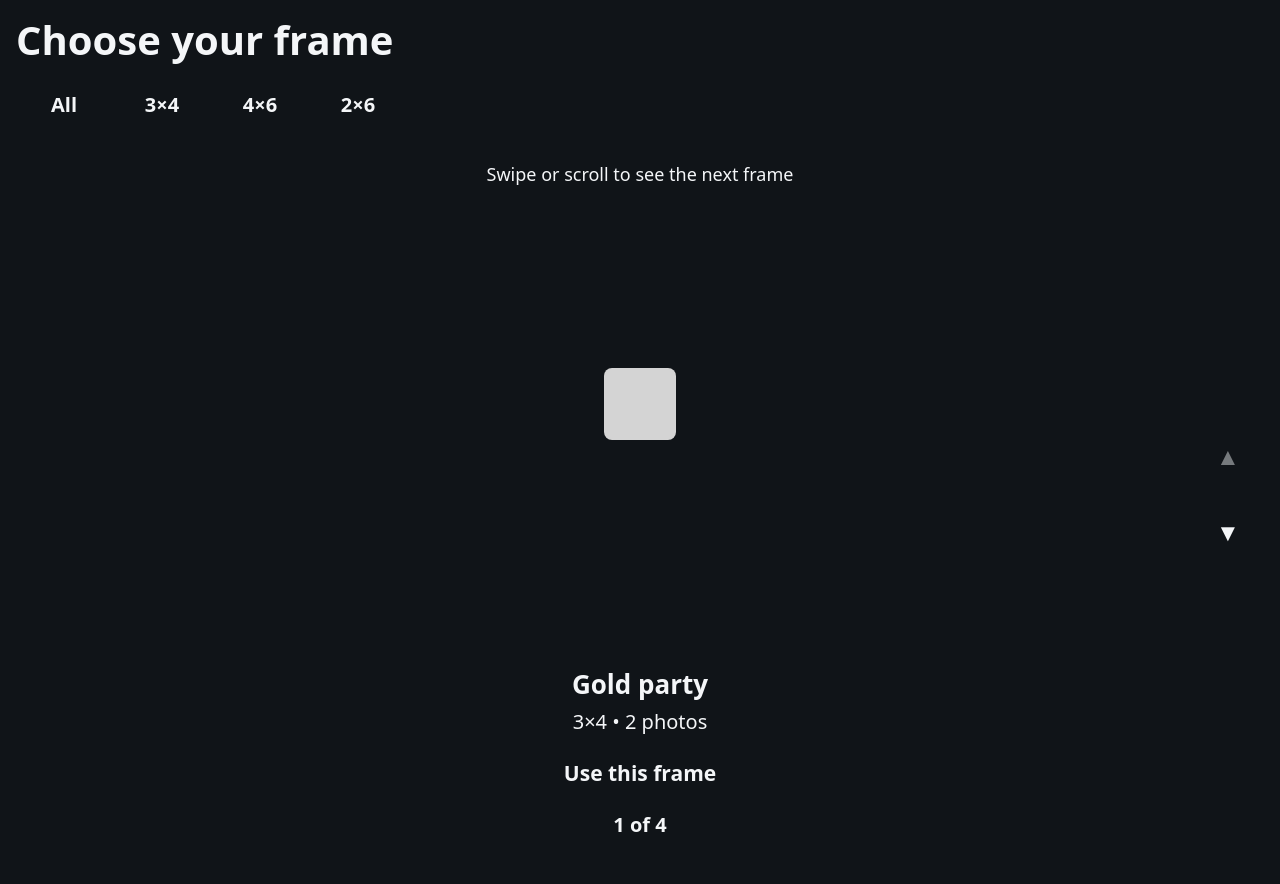
Test case: FrameCarousel (participants) › hides the first-use hint once the participant moves
Expected: the text "Swipe or scroll to see the next frame" is shown, [471,154,810,194]
Click the button named "Next frame".
click(1228, 533)  # box [1196,501,1260,565]
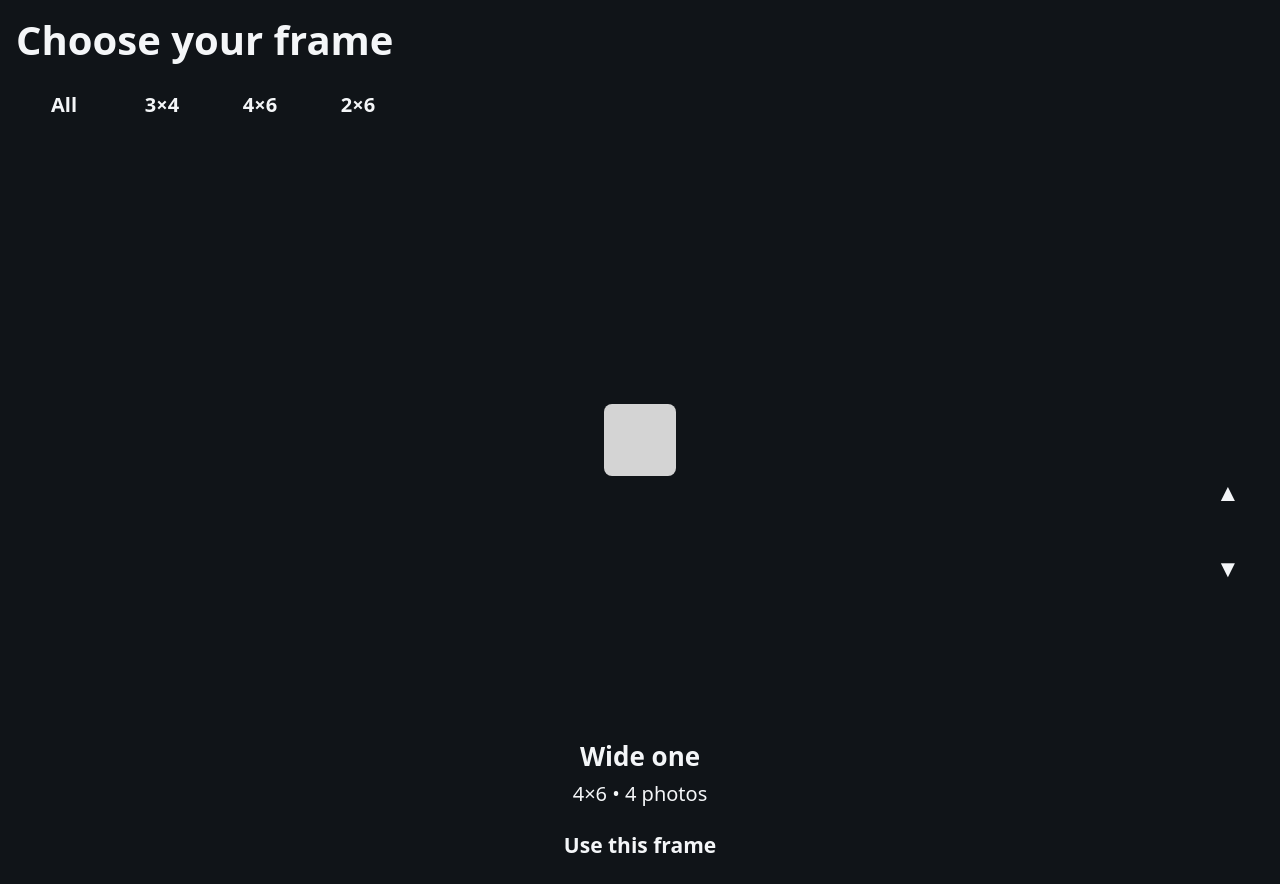
Expected: the text "Swipe or scroll to see the next frame" is gone
